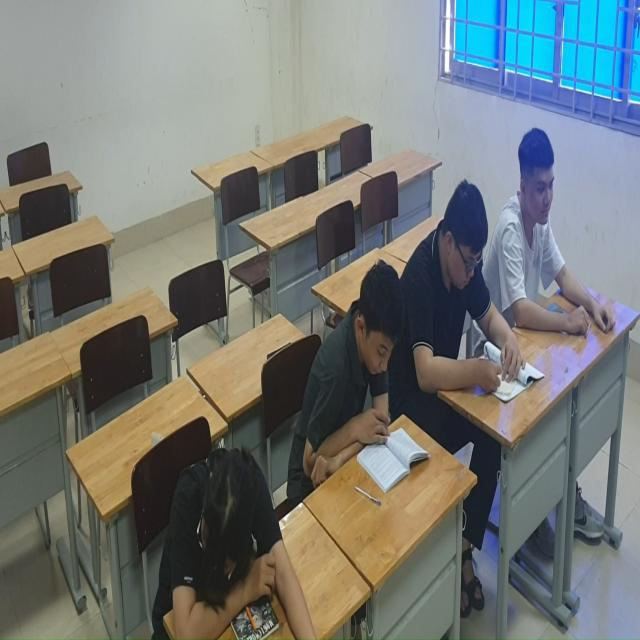read: (484, 103, 631, 350), (417, 184, 529, 431), (311, 274, 421, 504)
sleep: (169, 481, 311, 640)
